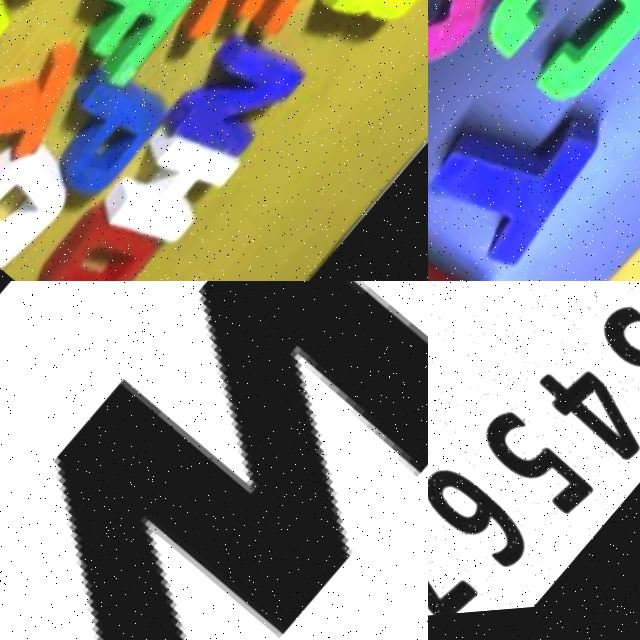3: (563, 281, 640, 454)
4: (504, 328, 640, 515)
5: (431, 368, 635, 576)
6: (428, 411, 574, 624)
7: (428, 462, 515, 628)
C: (462, 0, 640, 129)
E: (150, 0, 343, 97)
F: (37, 0, 196, 103)
G: (428, 0, 539, 147)
H: (74, 110, 240, 281)
I: (0, 5, 94, 240)
N: (146, 16, 313, 189)
O: (8, 186, 167, 281)
P: (8, 56, 175, 228)
Q: (0, 117, 82, 281)
R: (308, 0, 428, 59)
T: (428, 47, 623, 281)
W: (0, 281, 428, 640)
